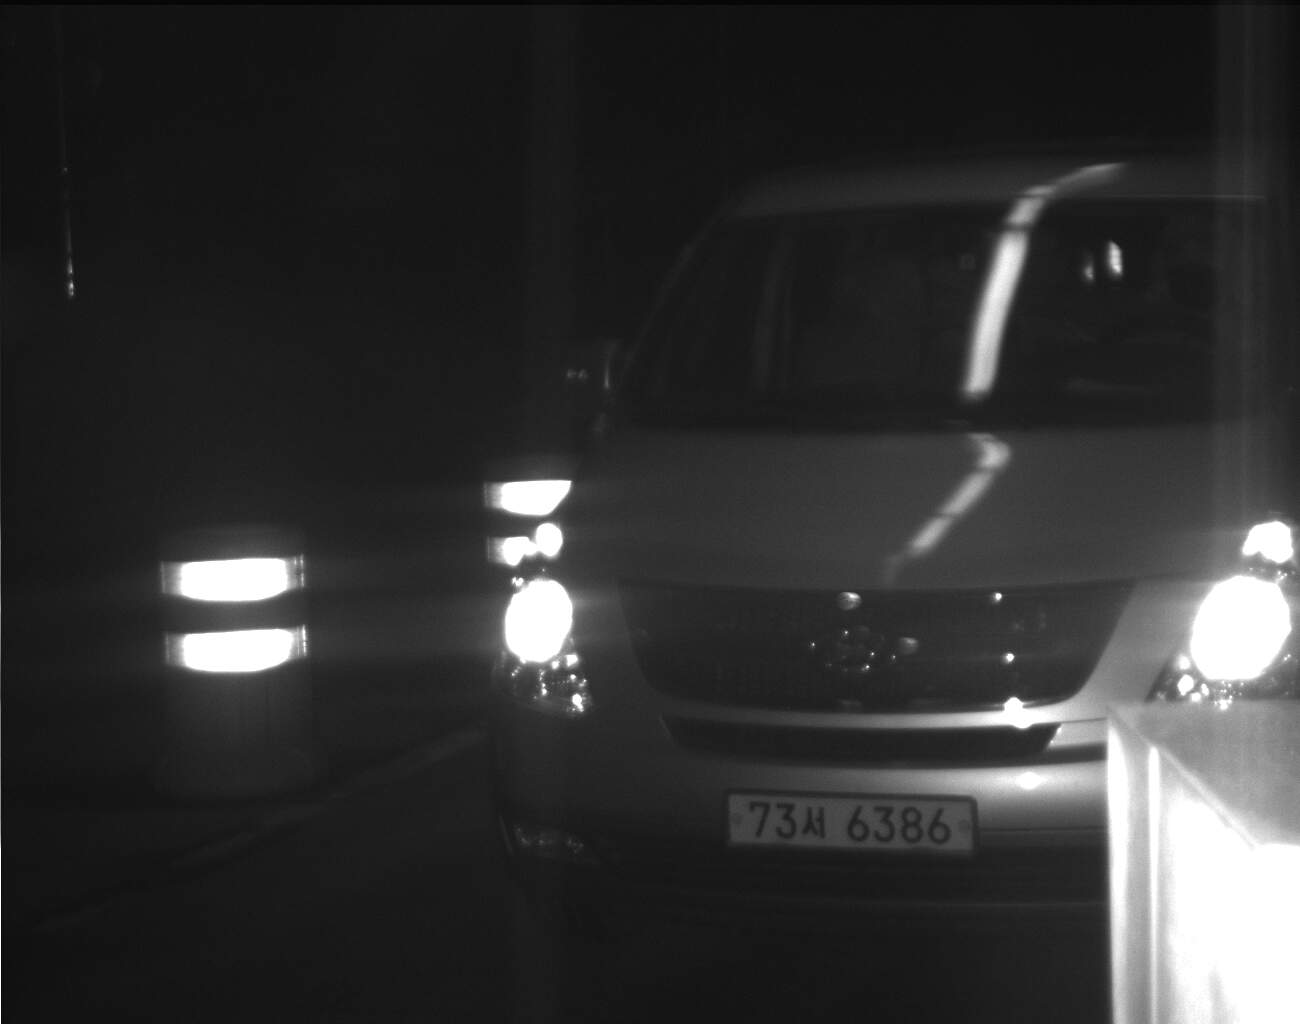car: (484, 137, 1300, 915)
plate: (721, 784, 984, 860)
